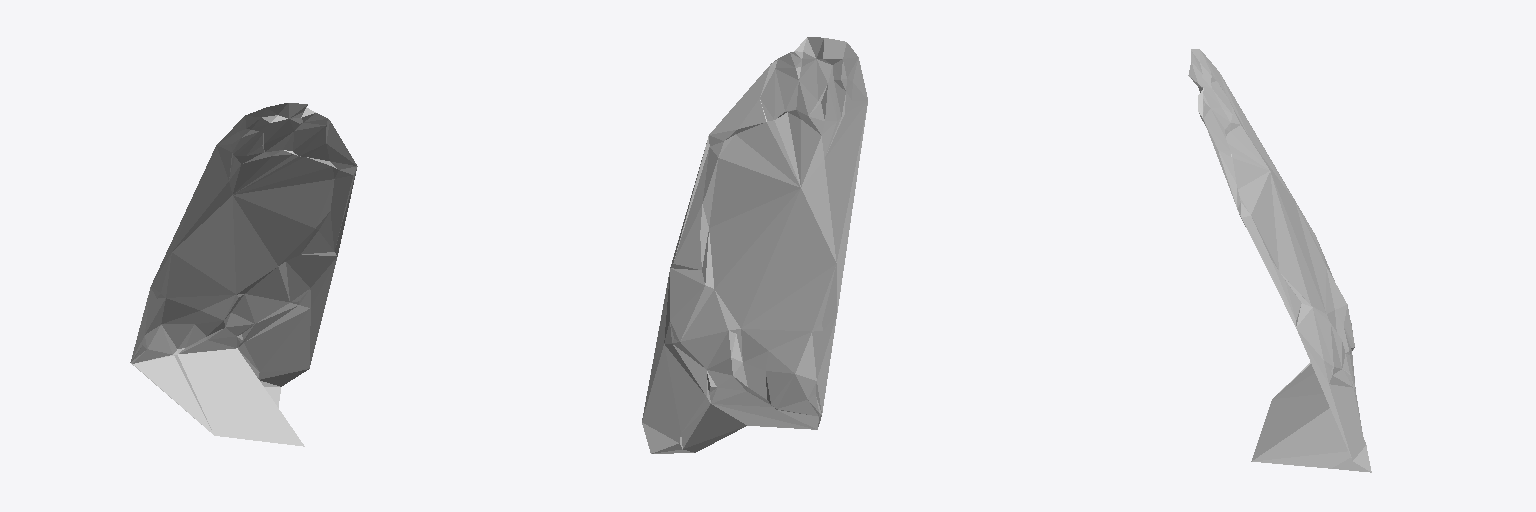
Rendered from model_Mesona.obj.
The picture shows the model from 3 angles: view 1: azimuth 30°, elevation 25°; view 2: azimuth 150°, elevation 25°; view 3: azimuth 270°, elevation 25°; orthographic projection.
Bounding box in the file's own units: 0.7147 × 1.44 × 0.6318.